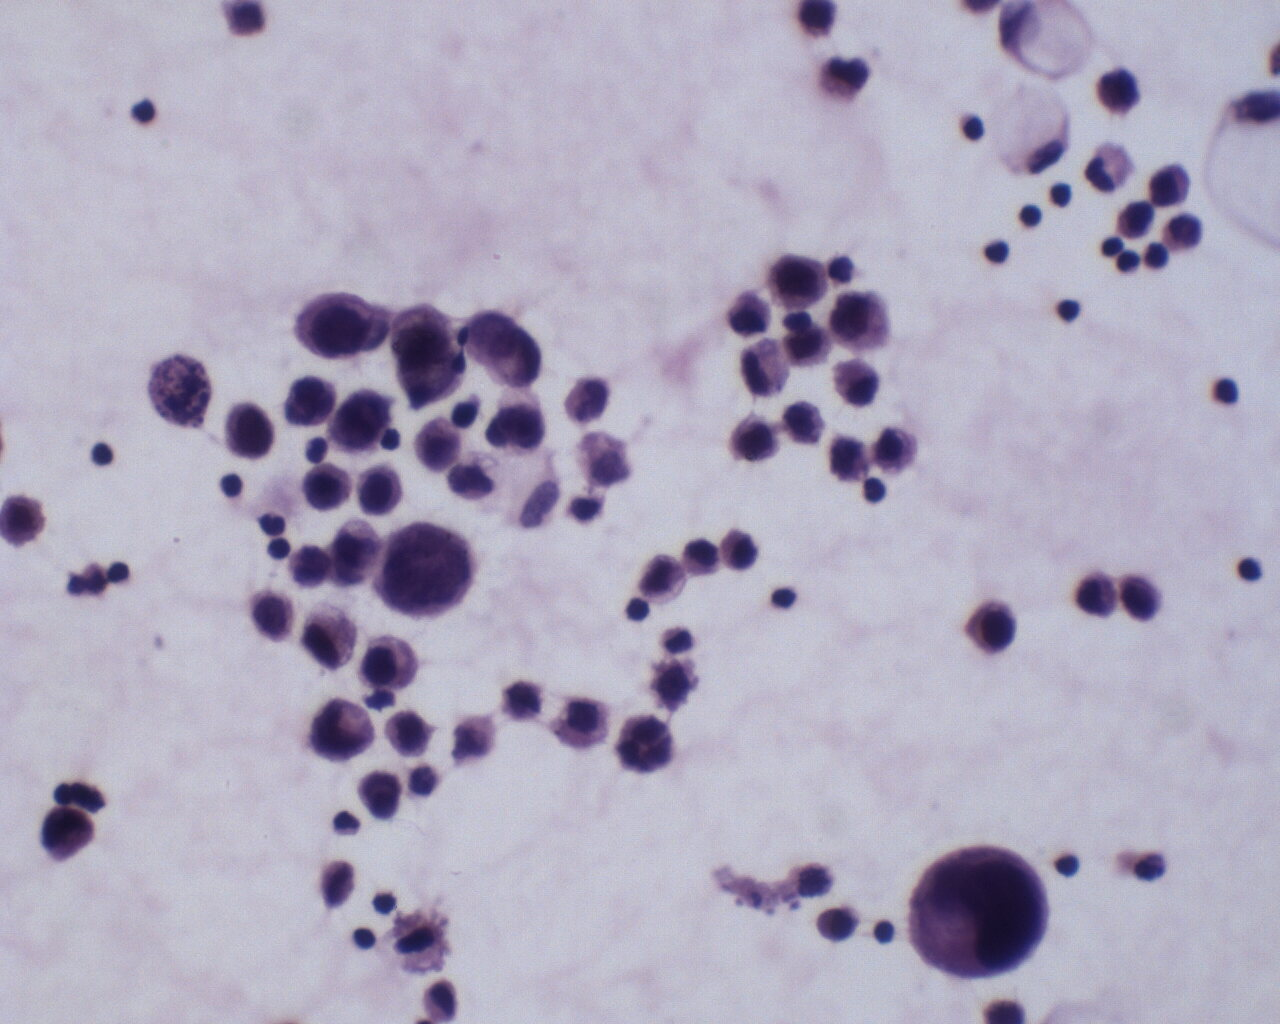ab: (898, 842, 1048, 984), (373, 518, 478, 628), (290, 288, 381, 364), (307, 699, 380, 762), (331, 388, 399, 455), (962, 592, 1024, 661), (769, 252, 834, 315), (34, 802, 97, 865), (219, 398, 279, 460)
histo: (990, 77, 1075, 182)
lymph: (1228, 553, 1265, 588), (1208, 372, 1242, 409), (1054, 288, 1088, 326), (89, 434, 115, 471)
meso: (357, 633, 423, 690)
